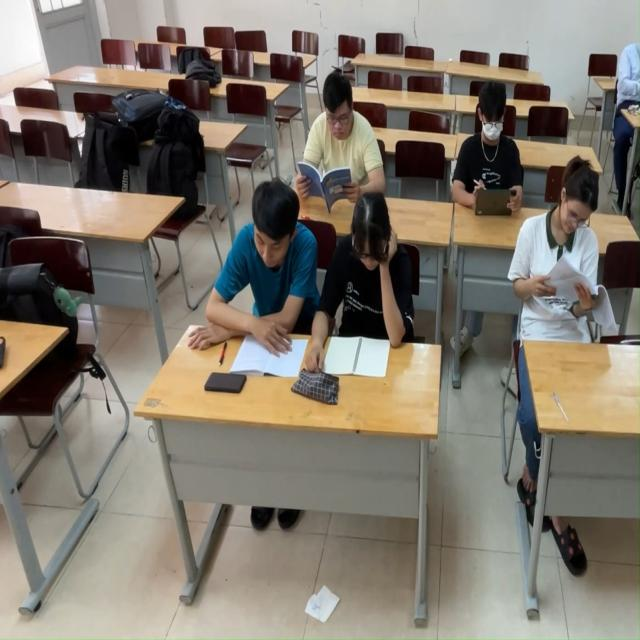read: (202, 168, 335, 395), (497, 145, 630, 368), (307, 176, 439, 390), (451, 82, 524, 245), (311, 65, 357, 211)
